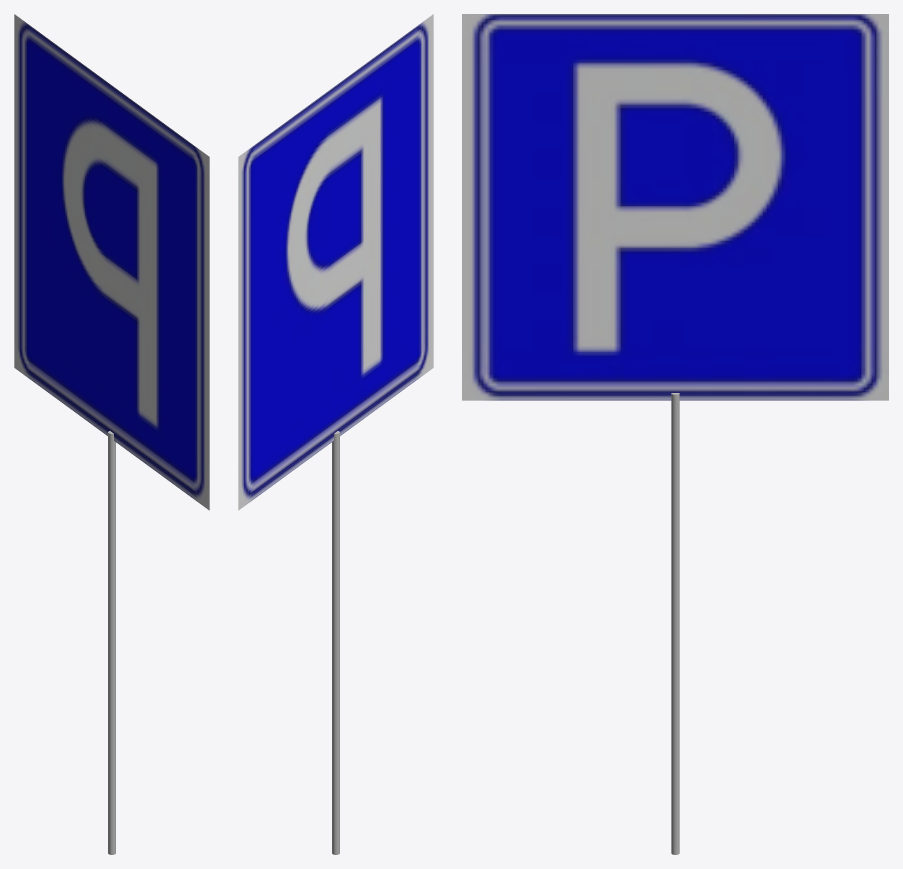
Rendered from yesparking.obj.
The picture shows the model from 3 angles, left to right: view 1: azimuth 30°, elevation 25°; view 2: azimuth 150°, elevation 25°; view 3: azimuth 270°, elevation 25°; orthographic projection. The views are drawn at different scales.
Visible parts, largest first — view 1: Plane; view 2: Plane; view 3: Plane.
Part boxes in pixels (left/top/right/bottom): Plane: left=14, top=14, right=209, bottom=854; Plane: left=238, top=14, right=433, bottom=854; Plane: left=462, top=14, right=888, bottom=854.
Bounding box in the file's own units: 0.04 × 4.34 × 2.
